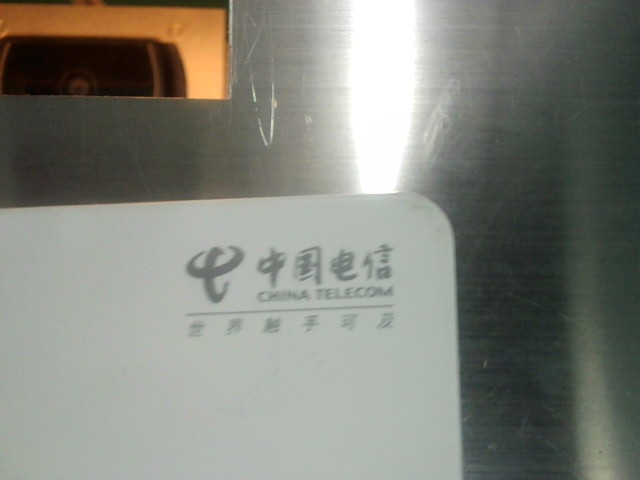AB_ChinaTelecom: (168, 240, 411, 343)
